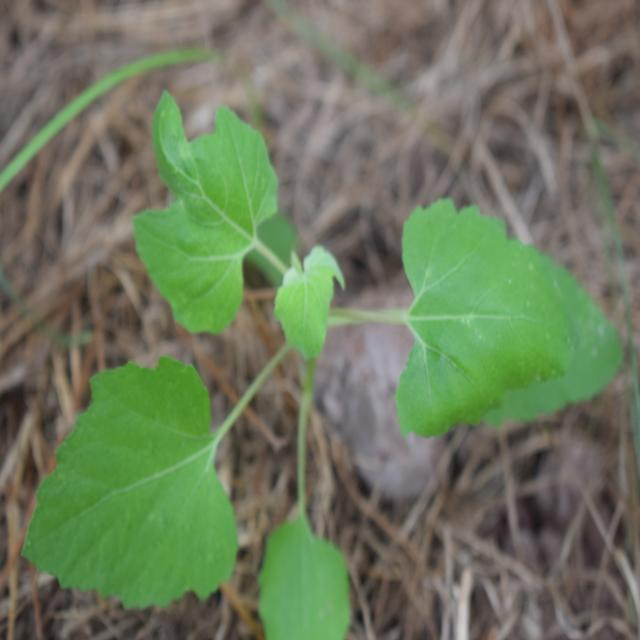cocklebur: (40, 94, 591, 598)
